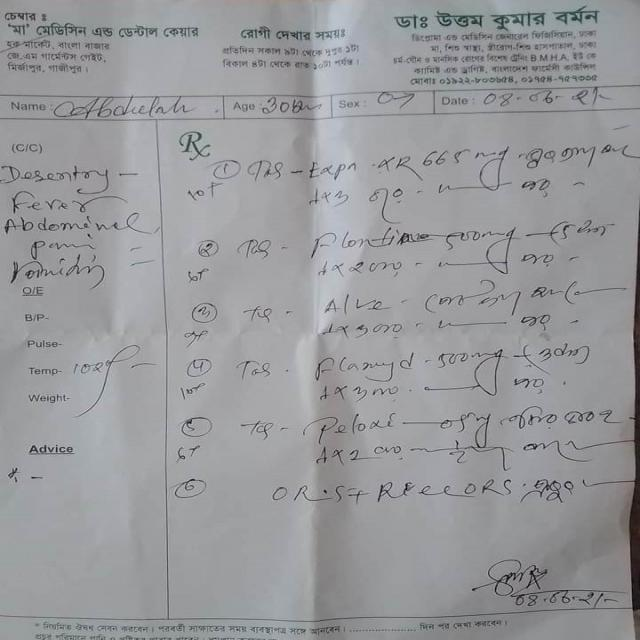Alve: (310, 291, 394, 316)
Flamyd: (308, 350, 429, 381)
Flontin: (293, 223, 422, 255), (322, 158, 418, 181)
ORS: (261, 479, 351, 511)
Peloxi: (300, 408, 397, 446)
